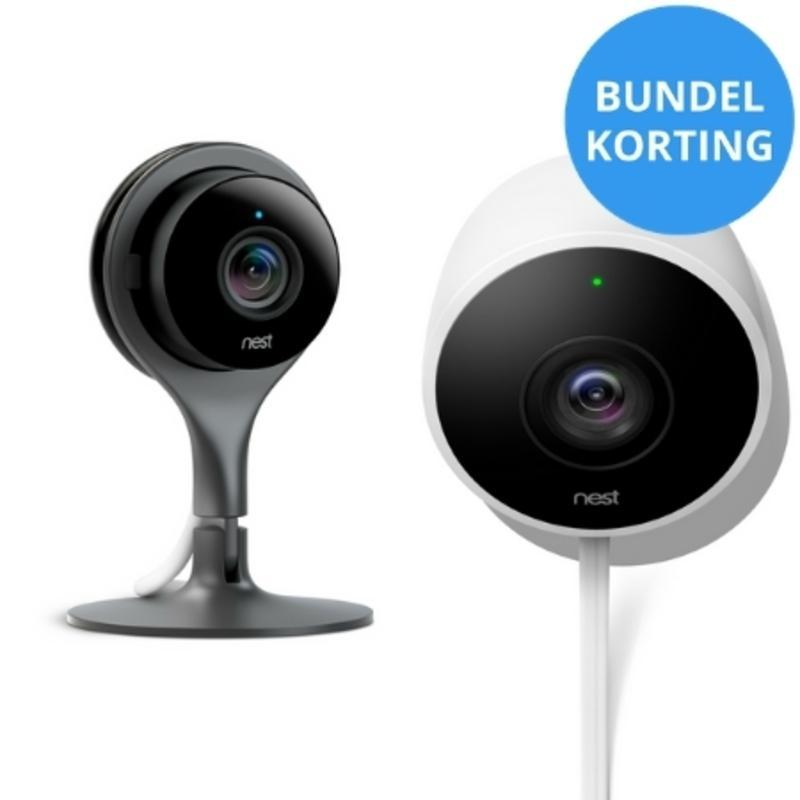nest: (408, 130, 798, 591), (64, 128, 391, 650)
